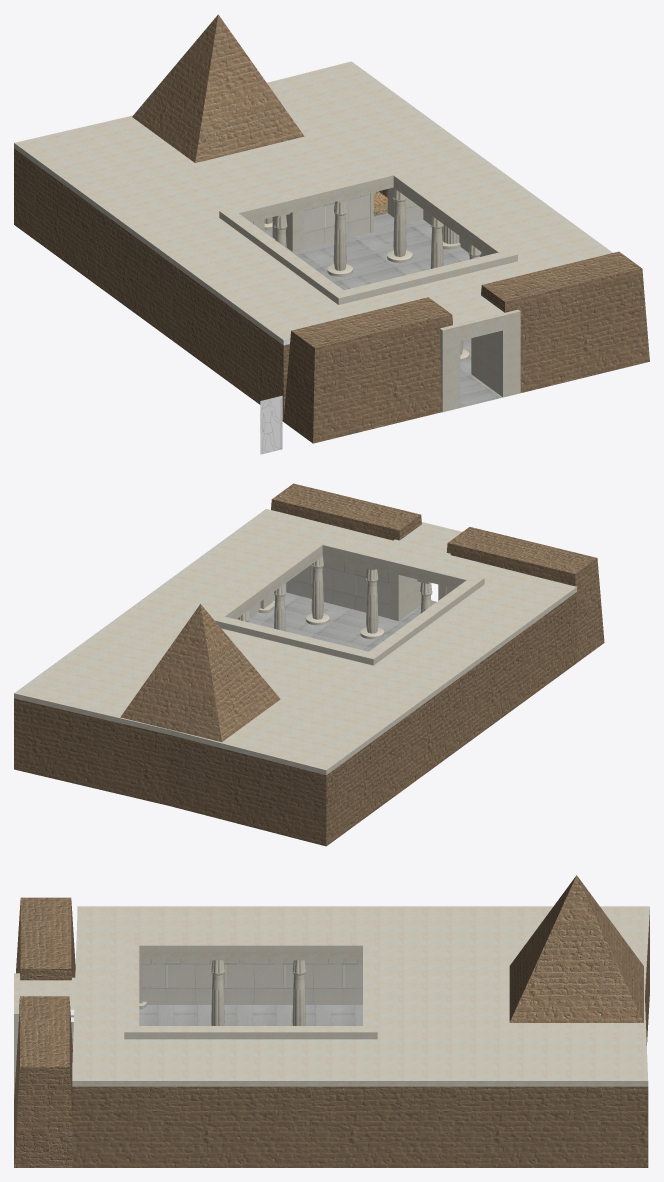
Rendered from Ptahemwia.glb.
3 renders of one model, top to bottom at view 1: azimuth 30°, elevation 25°; view 2: azimuth 150°, elevation 25°; view 3: azimuth 270°, elevation 25°, orthographic. The views are drawn at different scales.
Parts seen in each view (by area): view 1: Mesh39 Model, Mesh37 Component_31_1 Model, Mesh38 Component_31_2 Model, Mesh35 Component_29_1 Model, Mesh36 Component_30_1 Model, Mesh42 Model, Mesh19 Component_22_10 Model, Mesh15 Component_22_8 Model; view 2: Mesh39 Model, Mesh35 Component_29_1 Model, Mesh37 Component_31_1 Model, Mesh38 Component_31_2 Model, Mesh36 Component_30_1 Model, Mesh23 Component_22_12 Model, Mesh9 Component_22_5 Model; view 3: Mesh39 Model, Mesh35 Component_29_1 Model, Mesh38 Component_31_2 Model, Mesh37 Component_31_1 Model, Mesh36 Component_30_1 Model, Mesh5 Component_22_3 Model, Mesh3 Component_22_2 Model.
Boxes of the visible parts, box(x1,y1,x2,y2) form: Mesh39 Model: box(14, 61, 612, 421); Mesh37 Component_31_1 Model: box(283, 297, 452, 443); Mesh38 Component_31_2 Model: box(481, 251, 649, 392); Mesh35 Component_29_1 Model: box(132, 14, 304, 162); Mesh36 Component_30_1 Model: box(438, 293, 520, 412); Mesh42 Model: box(260, 395, 282, 454); Mesh19 Component_22_10 Model: box(333, 198, 349, 270); Mesh15 Component_22_8 Model: box(393, 189, 406, 256); Mesh39 Model: box(14, 509, 576, 846); Mesh35 Component_29_1 Model: box(120, 604, 280, 741); Mesh37 Component_31_1 Model: box(446, 527, 604, 662); Mesh38 Component_31_2 Model: box(271, 483, 421, 540); Mesh36 Component_30_1 Model: box(390, 522, 461, 620); Mesh23 Component_22_12 Model: box(363, 566, 378, 633); Mesh9 Component_22_5 Model: box(311, 556, 323, 619); Mesh39 Model: box(14, 906, 649, 1167); Mesh35 Component_29_1 Model: box(509, 875, 643, 1022); Mesh38 Component_31_2 Model: box(14, 996, 72, 1167); Mesh37 Component_31_1 Model: box(16, 897, 75, 980); Mesh36 Component_30_1 Model: box(14, 973, 75, 1049); Mesh5 Component_22_3 Model: box(292, 958, 306, 1025); Mesh3 Component_22_2 Model: box(210, 958, 225, 1025).
Size of the model in its own units: 12.08 by 5.81 by 16.17.
Materials: 8 (7 with a texture image).
